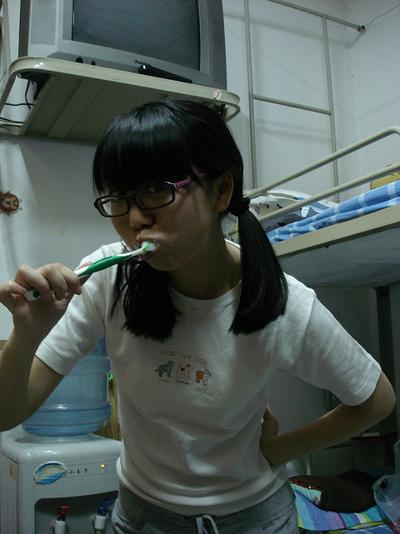person: (2, 95, 395, 534)
